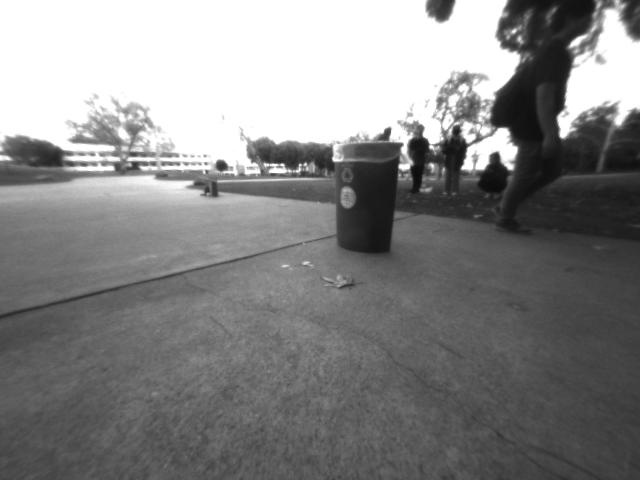trashcan_open: (328, 137, 408, 261)
